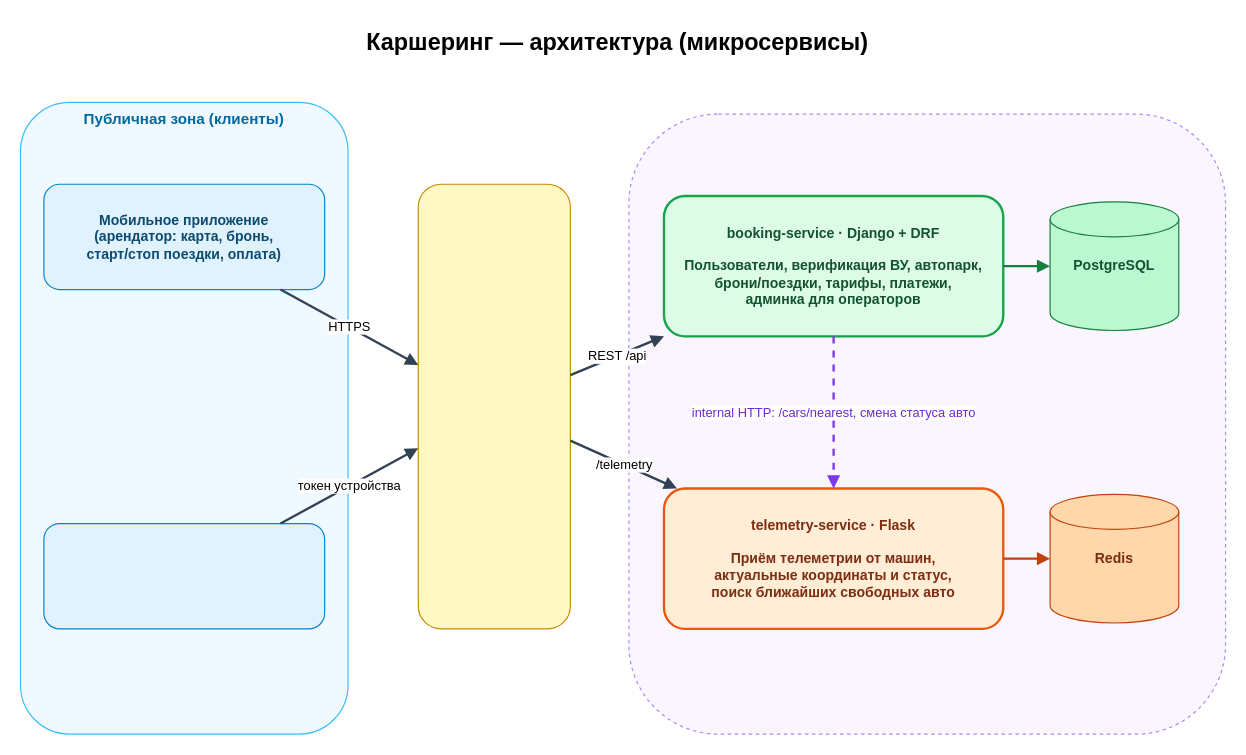
The diagram is 1246 pixels wide and 755 high, and some of its shapes have lost their labels. The box of each missing label's shape, as (x1, y1, x2, y2) in pixels:
API Gateway / Nginx (reverse proxy, TLS) — публичная граница —: (417, 183, 570, 629)
Автомобиль (IoT-устройство) шлёт координаты, заряд/топливо каждые N секунд: (43, 522, 325, 629)
Внутренняя сеть (private, недоступна извне): (628, 113, 1226, 734)
